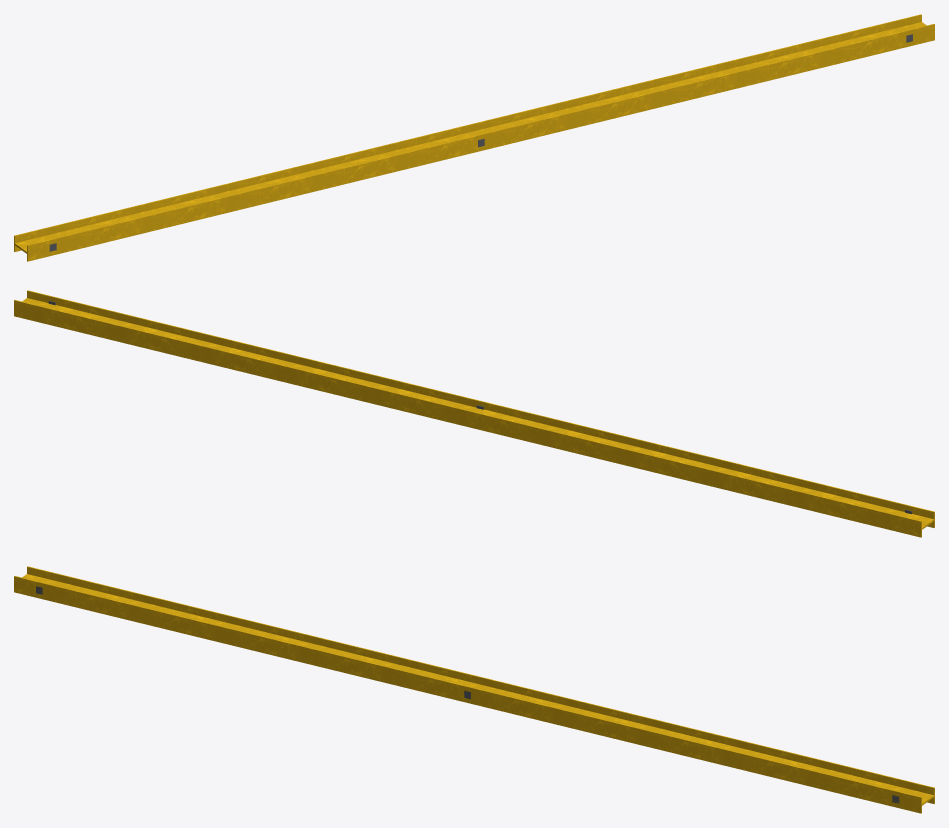
The model's file is crane_rail.glb.
3 renders of one model, top to bottom at view 1: azimuth 30°, elevation 25°; view 2: azimuth 150°, elevation 25°; view 3: azimuth 330°, elevation 25°, orthographic.
Parts seen in each view (by area): view 1: crane_rail; view 2: crane_rail; view 3: crane_rail.
Boxes of the visible parts, x1,y1,x2,y2 form: crane_rail: (14, 14, 934, 261); crane_rail: (14, 290, 934, 537); crane_rail: (14, 566, 934, 813).
Bounding box in the file's own units: 10.7 × 0.18 × 0.28.
Materials: 2 (2 with a texture image).
